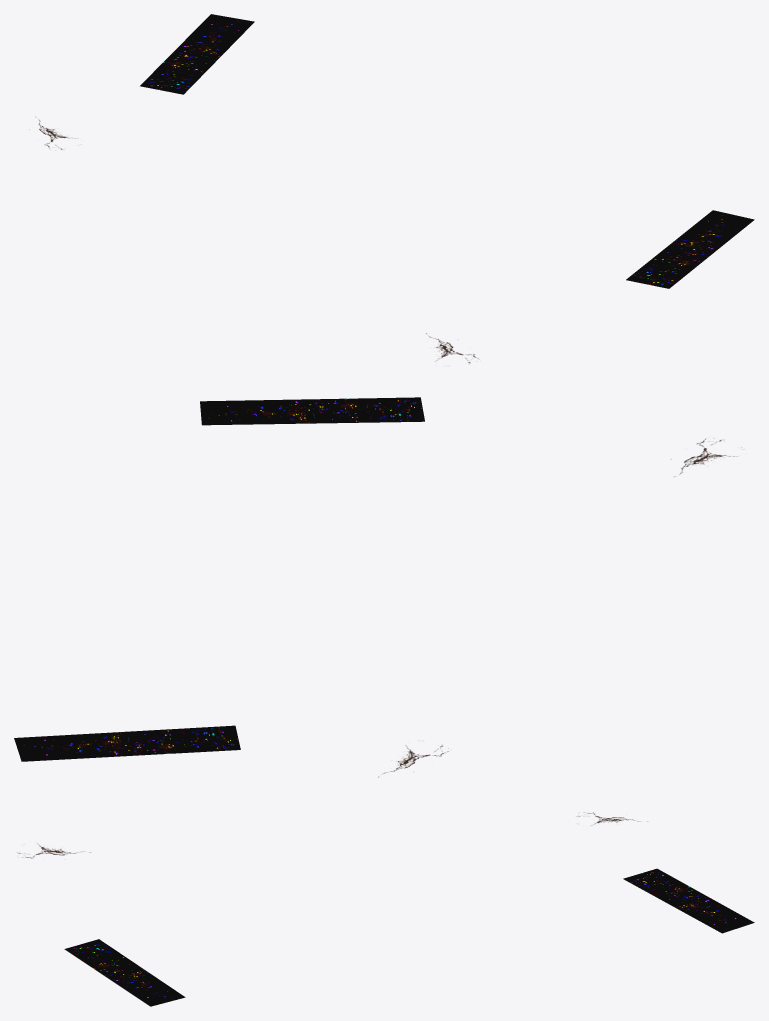
Rendered from test-floor_decals.glb.
3 views of the same model, one above another, from view 1: azimuth 30°, elevation 25°; view 2: azimuth 150°, elevation 25°; view 3: azimuth 270°, elevation 25° (orthographic). The views are drawn at different scales.
Visible parts, largest first — view 1: floor_decals; view 2: floor_decals; view 3: floor_decals.
Part boxes in pixels (<box>): floor_decals: <box>38,14,754,363</box>; floor_decals: <box>14,397,734,777</box>; floor_decals: <box>17,812,754,1006</box>.
Size of what is drawn, in the model's own units: 161 by 0 by 259.
2 materials, 2 textured.
